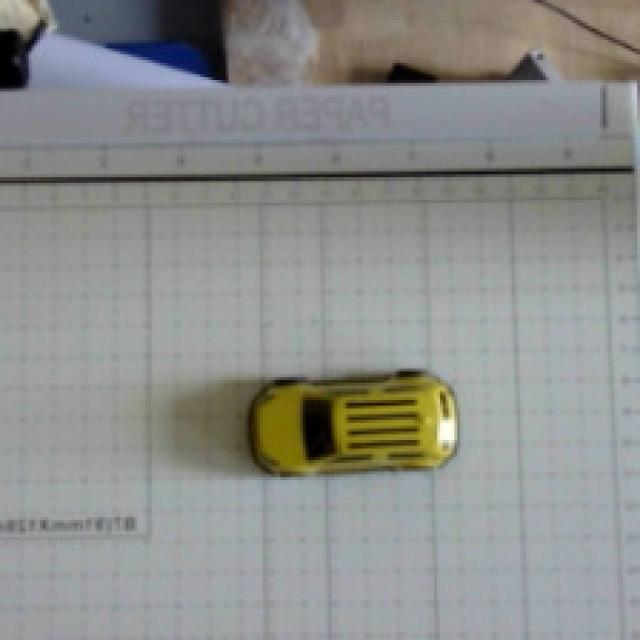Yellow Car: (209, 346, 489, 516)
